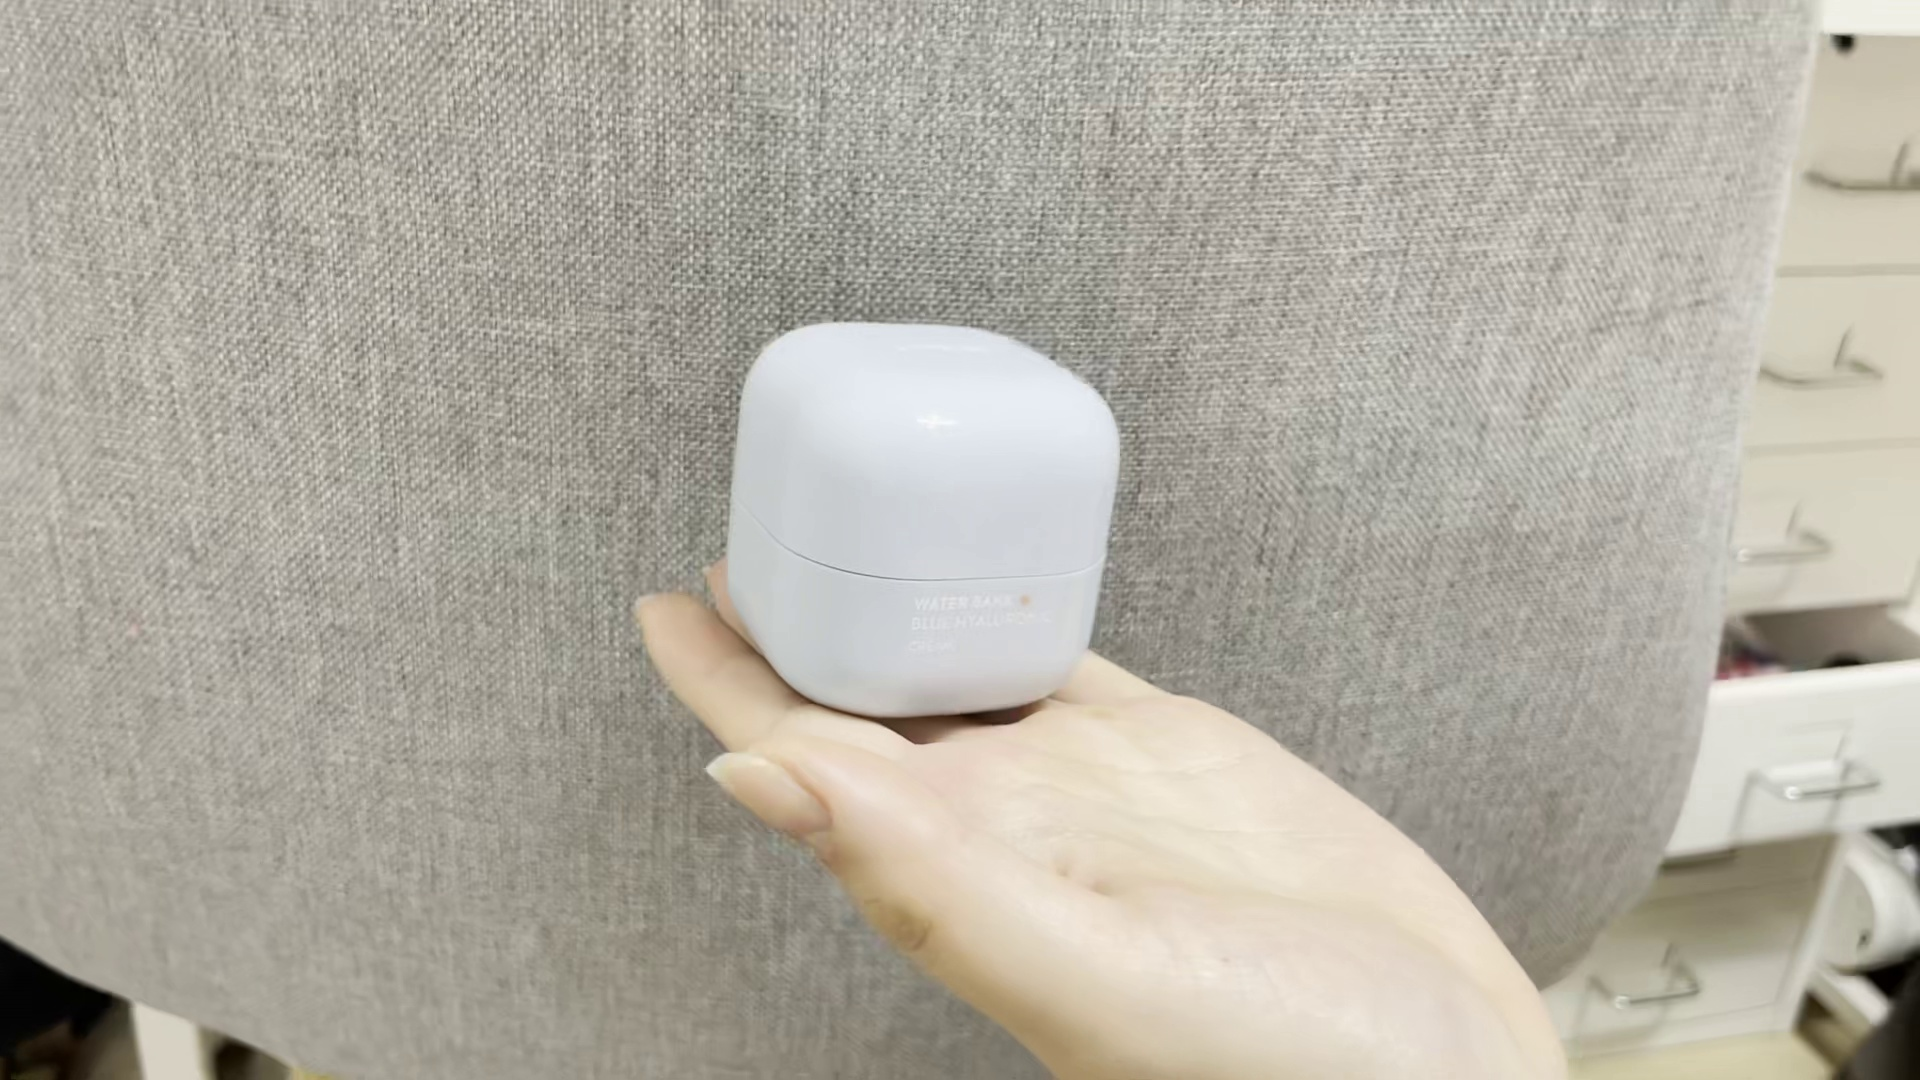cream: (727, 326, 1112, 717)
